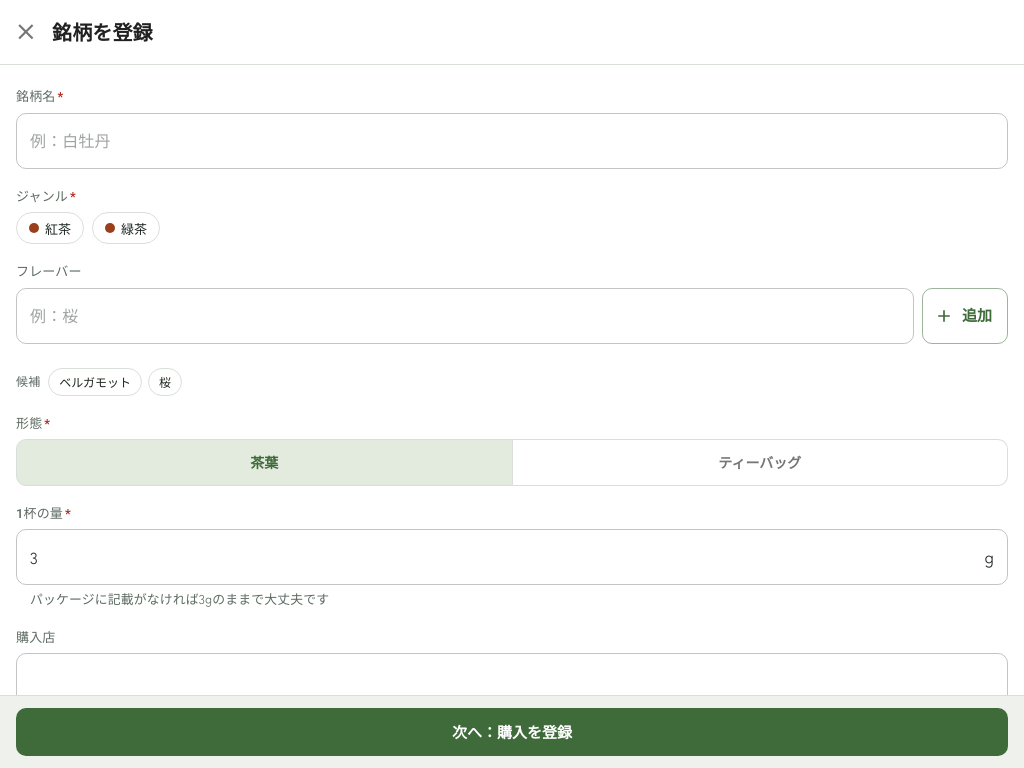
it: SC-04 銘柄を登録 › 同じ名前の銘柄があれば注意する（削除済みなら復元を案内）
This screenshot has width=1024, height=768.
Type "ウバ" into the field named "銘柄名".
click(512, 140); type("ウバ")  # box [16,112,1008,168]
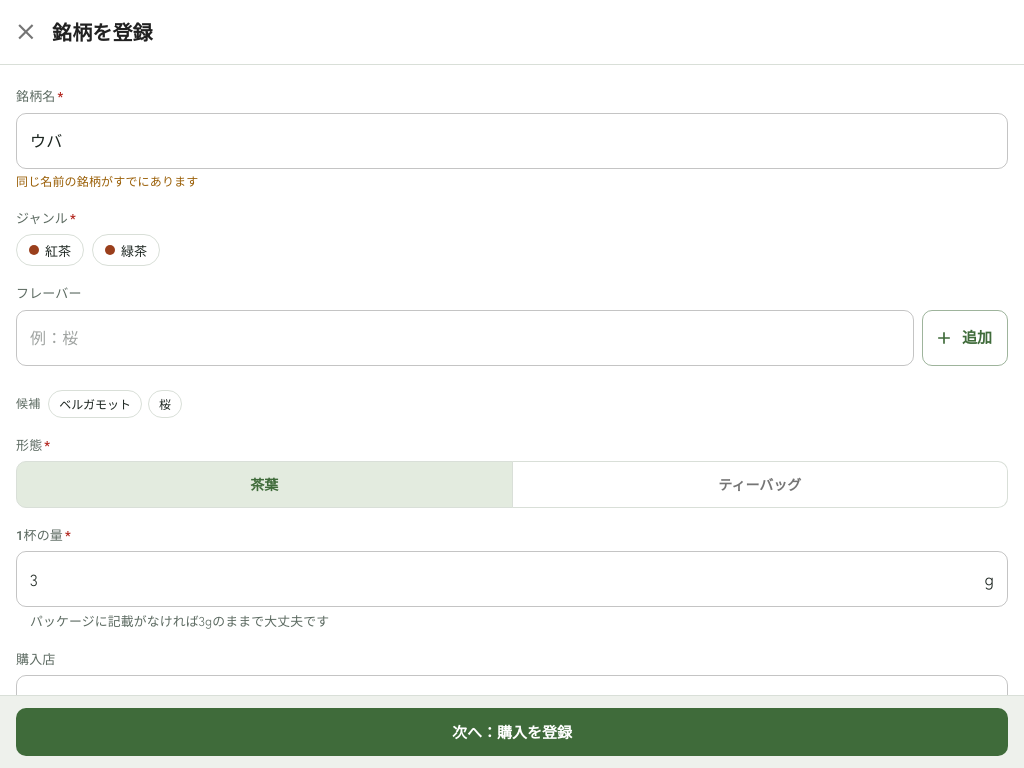
Expected: the text "同じ名前の銘柄がすでにあります" is shown, [16,174,198,188]
Replace the text in the field named "銘柄名" with "削除済み" at (512, 140), box [16,112,1008,168]
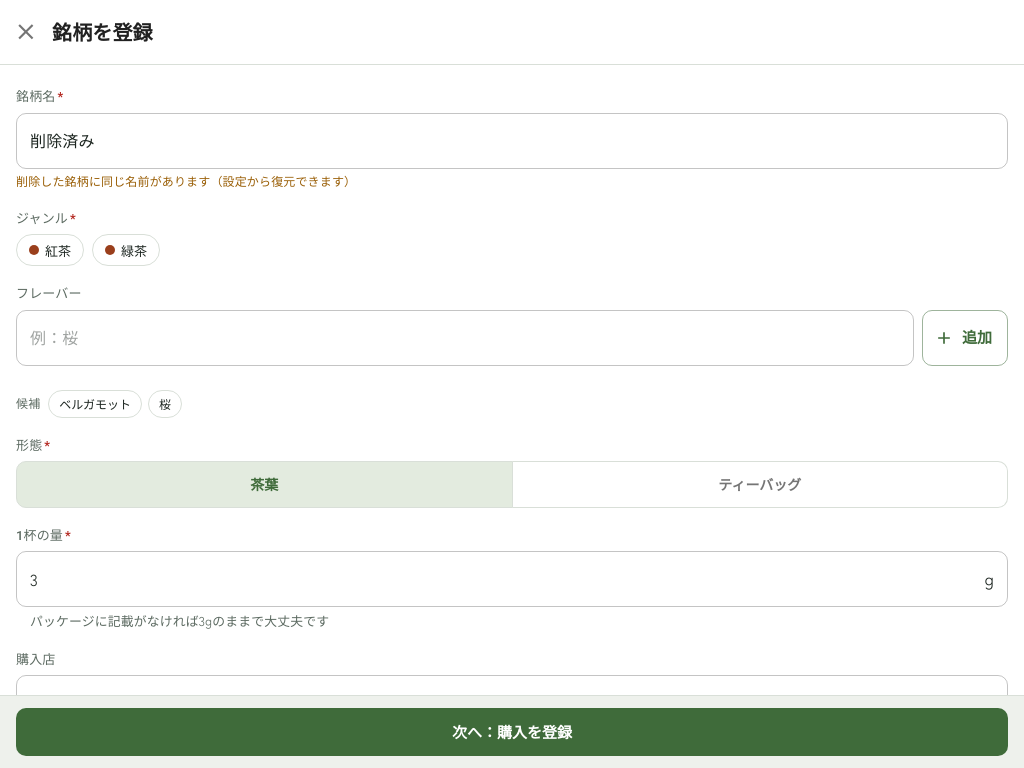
Expected: the text "削除した銘柄に同じ名前があります（設定から復元できます）" is shown, [16,174,356,188]
